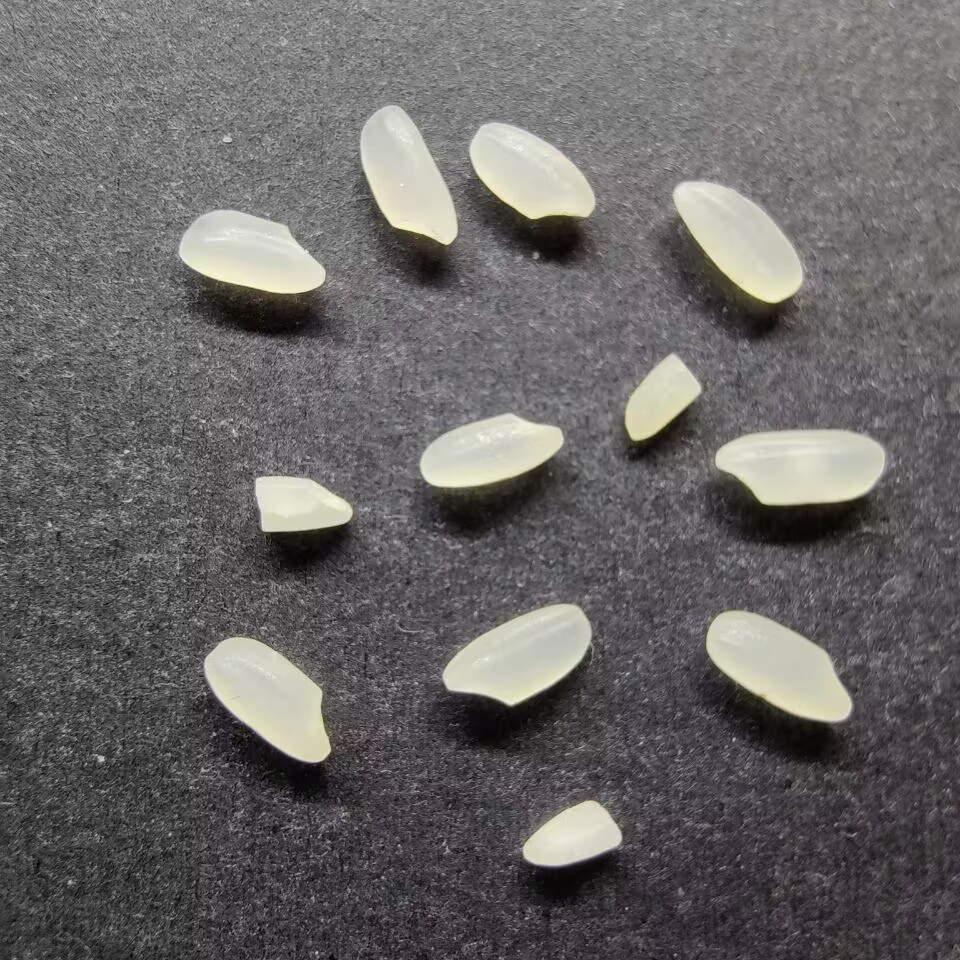broken: (621, 352, 704, 442), (520, 798, 623, 869), (249, 474, 355, 533)
rice: (704, 609, 854, 723), (670, 179, 806, 303), (203, 636, 332, 764), (439, 601, 592, 706), (356, 102, 458, 246), (710, 427, 887, 507), (466, 120, 597, 222), (177, 208, 326, 295), (418, 412, 564, 489)
